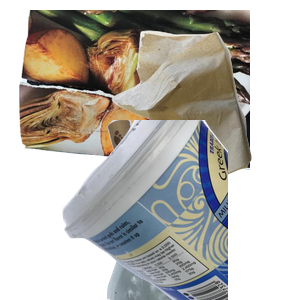glass: (83, 120, 294, 300)
paper: (16, 10, 256, 172)
plastic: (60, 120, 300, 300)
trash: (109, 28, 300, 208)
